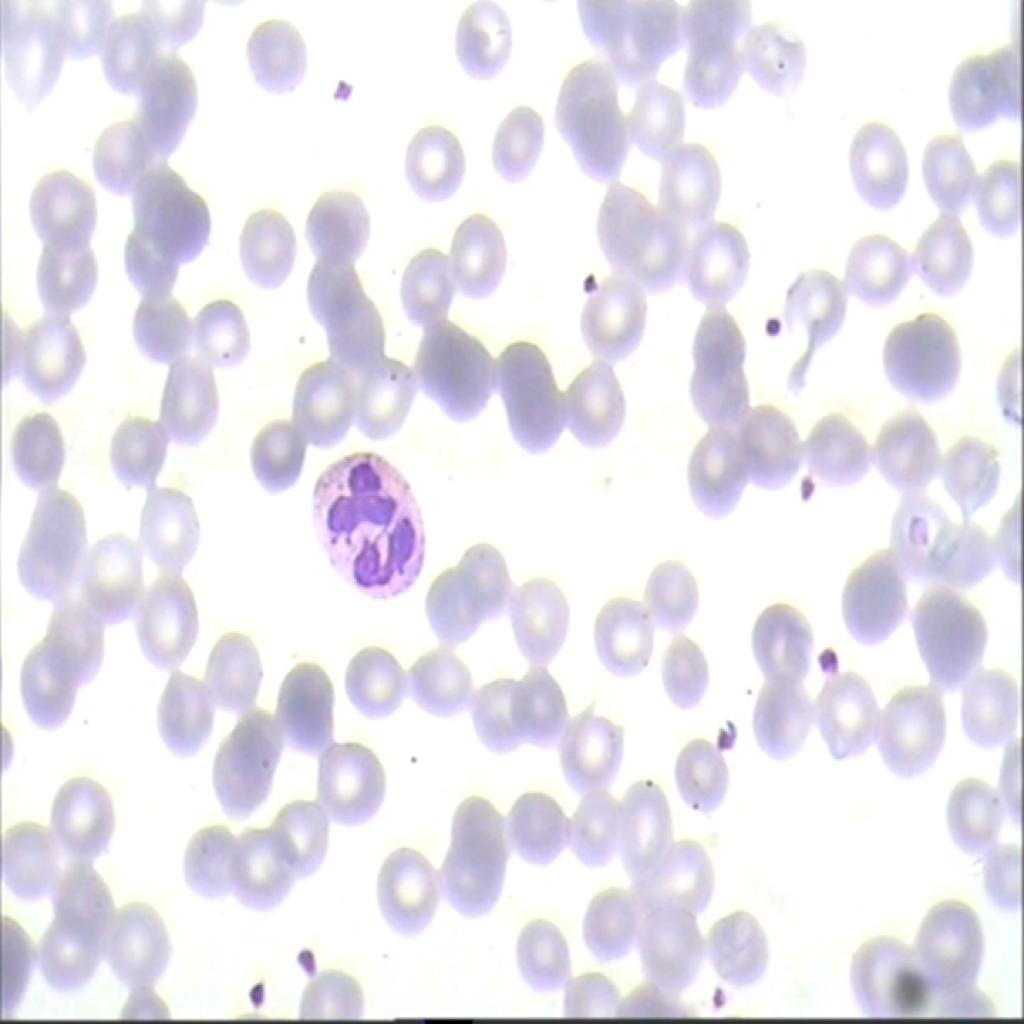Neutrofil: (296, 438, 435, 612)
Platelet: (573, 254, 612, 322), (704, 706, 742, 756), (288, 930, 326, 978), (816, 631, 845, 692), (789, 464, 825, 512), (328, 62, 362, 110), (242, 972, 276, 1018), (755, 300, 784, 346), (704, 973, 732, 1015)
